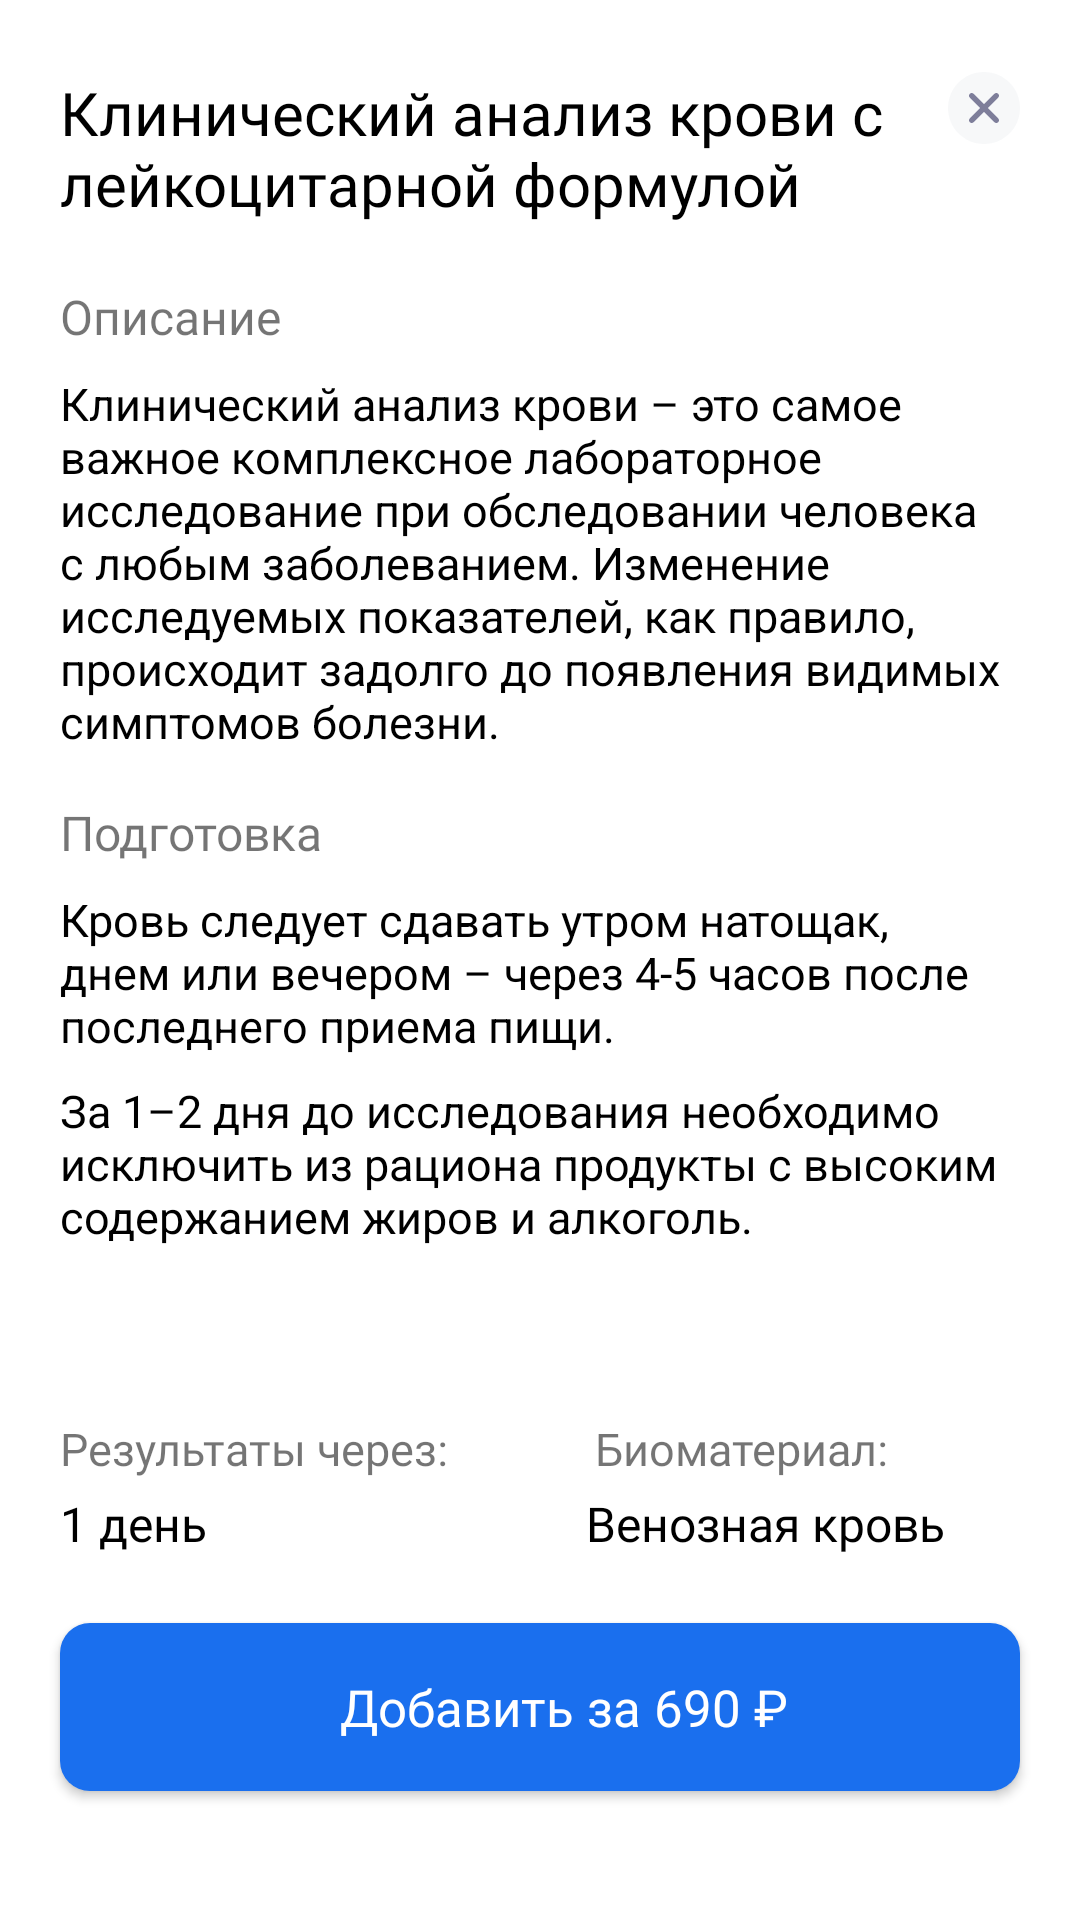

Icons on this 1080*1920 Android screen, each with the point to tap as point (x, y):
close: point (984, 108)
